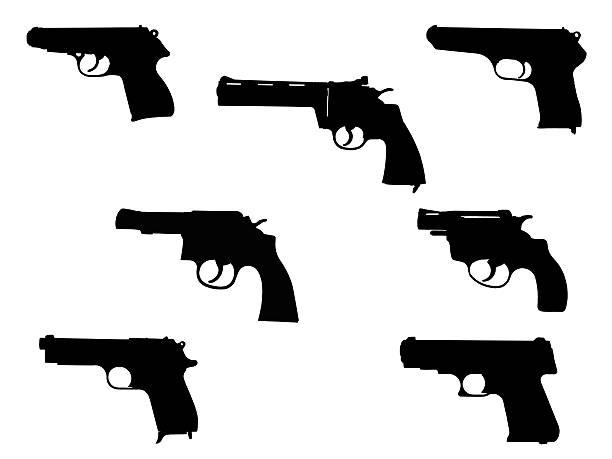weapon: (212, 71, 426, 193), (112, 205, 303, 325), (396, 333, 563, 447), (32, 333, 201, 445), (425, 19, 589, 133), (412, 203, 573, 313), (23, 20, 177, 122)
